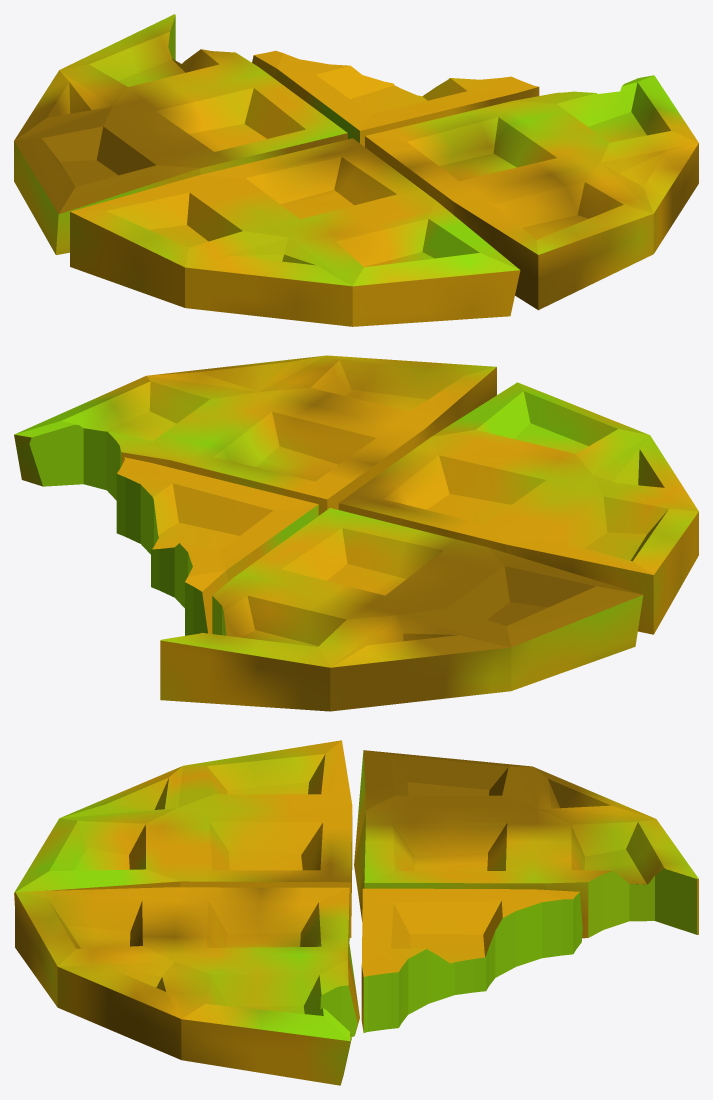
The model's file is panqueca.fbx.
The picture shows the model from 3 angles, top to bottom: view 1: azimuth 30°, elevation 25°; view 2: azimuth 150°, elevation 25°; view 3: azimuth 270°, elevation 25°; orthographic projection. The views are drawn at different scales.
Visible parts, largest first — view 1: CoockieMan.006; view 2: CoockieMan.006; view 3: CoockieMan.006.
Part boxes in pixels (<box>): CoockieMan.006: <box>14,14,698,326</box>; CoockieMan.006: <box>14,355,698,711</box>; CoockieMan.006: <box>14,740,698,1085</box>.
Bounding box in the file's own units: 204 × 18.24 × 202.
1 material, 1 textured.
